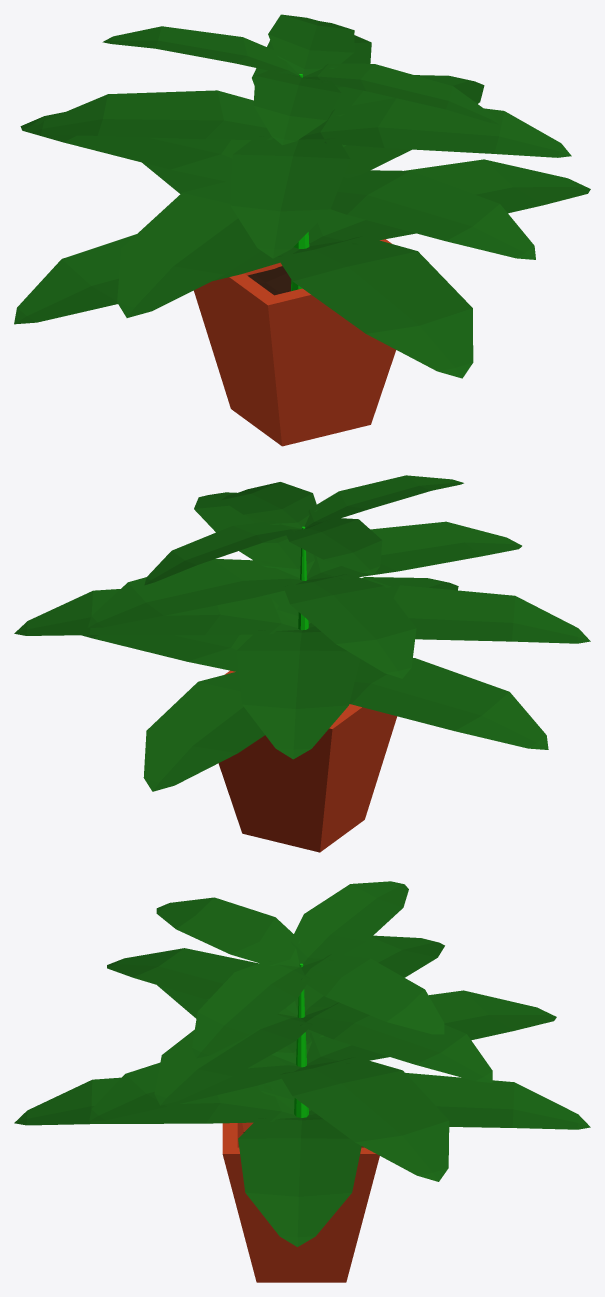
The model's file is rododendron.obj.
3 renders of one model, top to bottom at view 1: azimuth 30°, elevation 25°; view 2: azimuth 150°, elevation 25°; view 3: azimuth 270°, elevation 25°, orthographic. The views are drawn at different scales.
Visible parts, largest first — view 1: Cube, Plan.002, Plan.005, Plan.009, Plan.006, Plan.010, Plan.012, Plan.003, Plan.001, Plan.008, Plan.013, Plan.014 (+6 smaller); view 2: Cube, Plan.008, Plan.001, Plan.004, Plan.012, Plan.005, Plan.011, Plan.007, Plan.009, Plan.016, Plan.015, Plan.003 (+5 smaller); view 3: Plan.007, Plan.003, Cube, Plan.002, Plan.011, Plan.004, Plan.015, Plan.014, Plan.016, Plan.013, Plan.010, Plan.008 (+6 smaller).
Part boxes in pixels (x1,y1,x2,y2): Cube: [193, 239, 395, 446]; Plan.002: [277, 236, 473, 378]; Plan.005: [117, 181, 261, 317]; Plan.009: [230, 136, 349, 258]; Plan.006: [331, 170, 535, 259]; Plan.010: [303, 98, 571, 157]; Plan.012: [30, 90, 272, 140]; Plan.003: [308, 159, 590, 246]; Plan.001: [14, 234, 299, 324]; Plan.008: [20, 112, 251, 182]; Plan.013: [253, 69, 341, 145]; Plan.014: [303, 63, 499, 124]; Cube: [218, 670, 397, 852]; Plan.008: [236, 629, 359, 759]; Plan.001: [349, 658, 548, 749]; Plan.004: [143, 672, 264, 791]; Plan.012: [283, 573, 416, 678]; Plan.005: [307, 585, 590, 643]; Plan.011: [88, 559, 303, 627]; Plan.007: [14, 589, 299, 635]; Plan.009: [307, 521, 521, 579]; Plan.016: [285, 517, 382, 574]; Plan.015: [144, 521, 301, 585]; Plan.003: [82, 634, 252, 672]; Plan.007: [279, 1057, 449, 1181]; Plan.003: [238, 1117, 361, 1246]; Cube: [222, 1122, 379, 1282]; Plan.002: [14, 1077, 297, 1125]; Plan.011: [300, 1002, 492, 1082]; Plan.004: [307, 1072, 590, 1129]; Plan.015: [301, 954, 444, 1034]; Plan.014: [192, 960, 310, 1058]; Plan.016: [290, 881, 408, 965]; Plan.013: [156, 897, 300, 966]; Plan.010: [154, 1013, 312, 1105]; Plan.008: [306, 990, 556, 1065].
Bounding box in the file's own units: 7.31 × 4.6 × 7.31.
